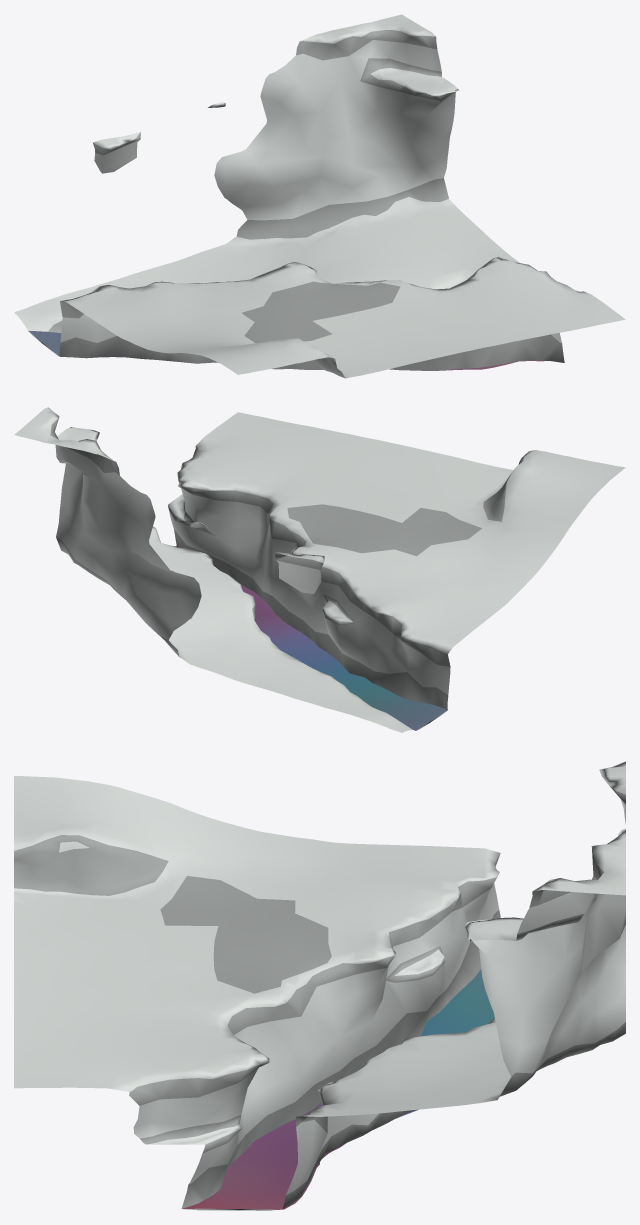
3 views of the same model, one above another, from view 1: azimuth 30°, elevation 25°; view 2: azimuth 150°, elevation 25°; view 3: azimuth 270°, elevation 25° (orthographic). The views are drawn at different scales.
Parts seen in each view (by area): view 1: G:\FFXIV-MapTools\exports\r2f1\bg\ex1\01_roc_r2\fld\r2f1\bgp (×6); view 2: G:\FFXIV-MapTools\exports\r2f1\bg\ex1\01_roc_r2\fld\r2f1\bgp (×6); view 3: G:\FFXIV-MapTools\exports\r2f1\bg\ex1\01_roc_r2\fld\r2f1\bgp (×6).
Part boxes in pixels (<box>): G:\FFXIV-MapTools\exports\r2f1\bg\ex1\01_roc_r2\fld\r2f1\bgp (×6): <box>14,14,625,378</box>; G:\FFXIV-MapTools\exports\r2f1\bg\ex1\01_roc_r2\fld\r2f1\bgp (×6): <box>14,407,625,732</box>; G:\FFXIV-MapTools\exports\r2f1\bg\ex1\01_roc_r2\fld\r2f1\bgp (×6): <box>14,761,625,1209</box>.
Size of the model in its own units: 128 by 74.88 by 128.
